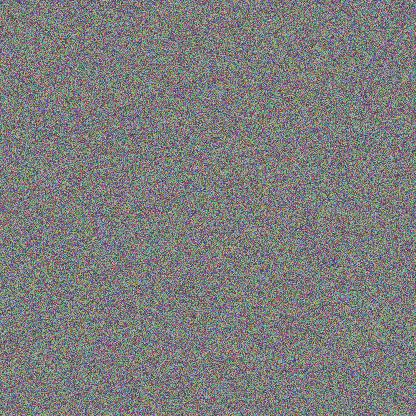empty: (51, 145, 119, 235)
occupied: (69, 262, 171, 385), (204, 41, 261, 130)
